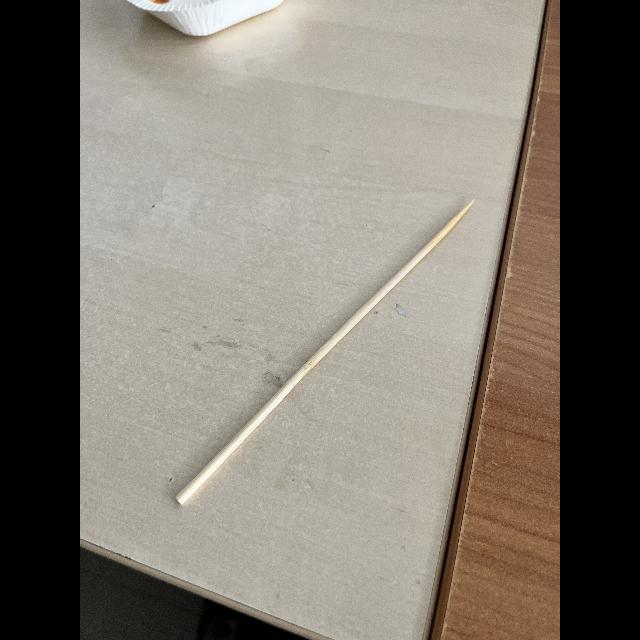stick: (175, 198, 473, 504)
